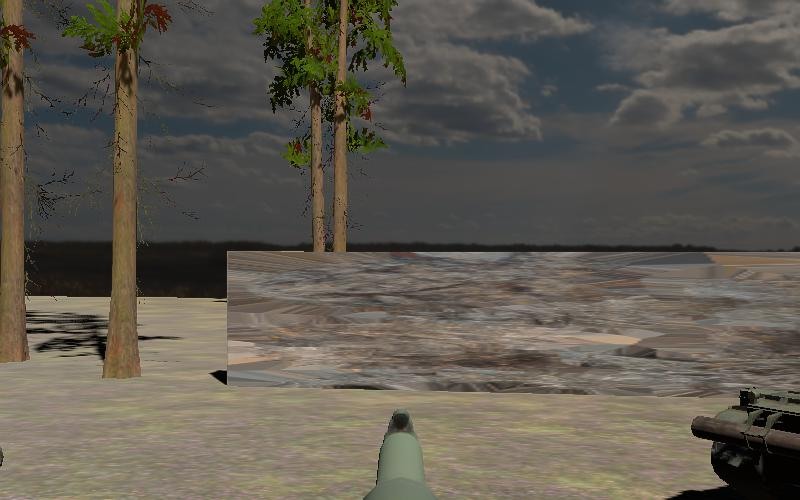Tank: (690, 333, 800, 500)
